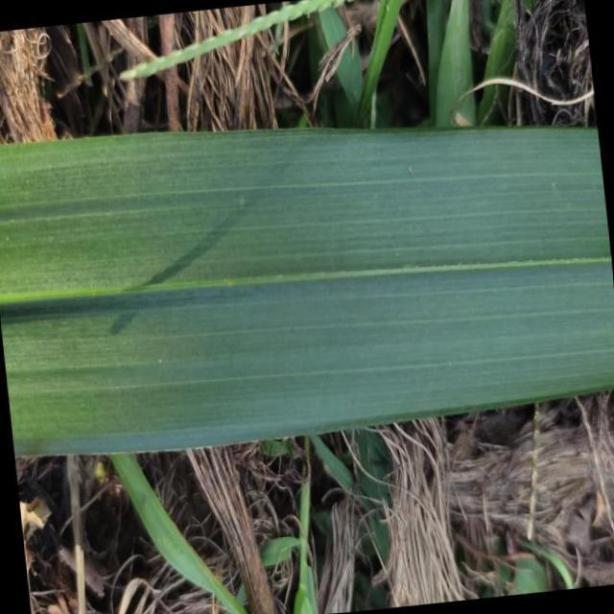Healthy: (6, 128, 614, 462)
